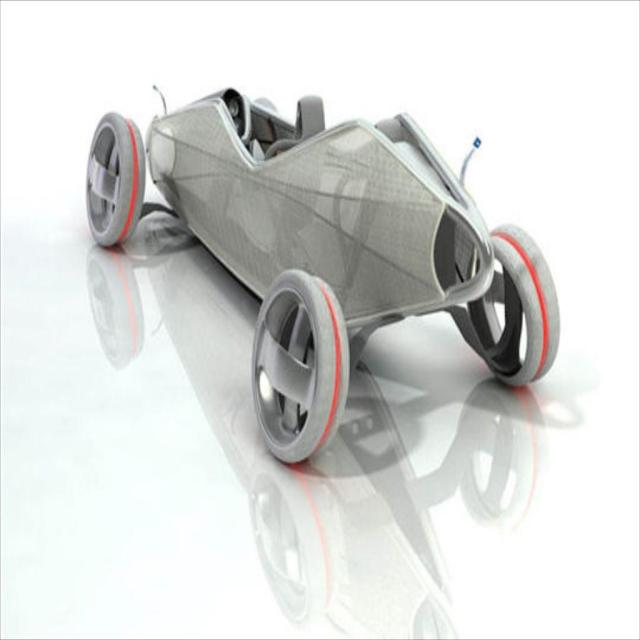car: (84, 79, 559, 467)
